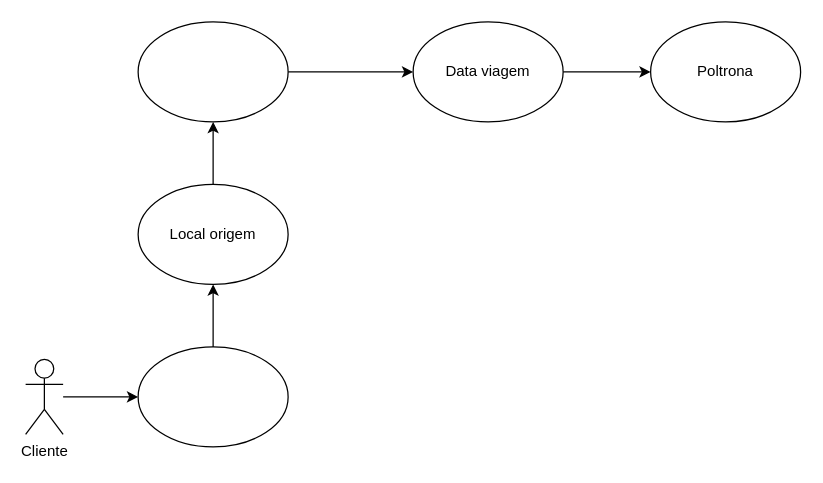
Some shapes in this 823 by 483 pixel diagram are drawn without their labels. Here are the shapes that lost their labels. From the top down, the centre of each, then its label:
At (212,71): "Destino".
At (212,396): "Trecho".
